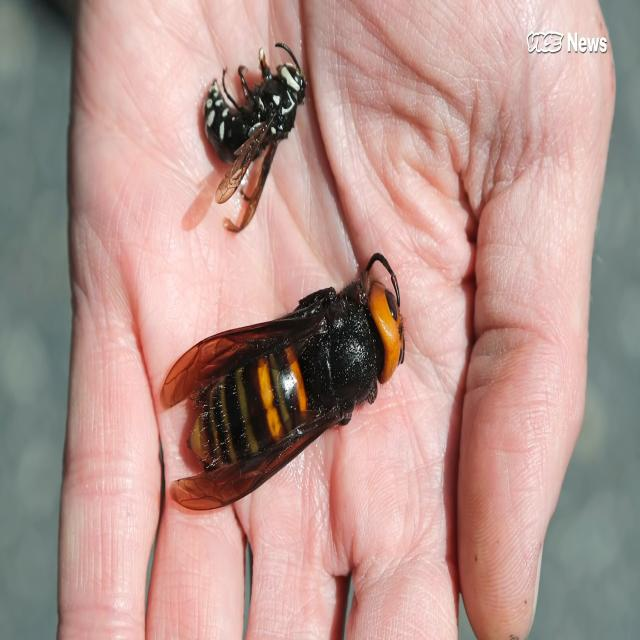Hornets: (161, 250, 407, 512)
